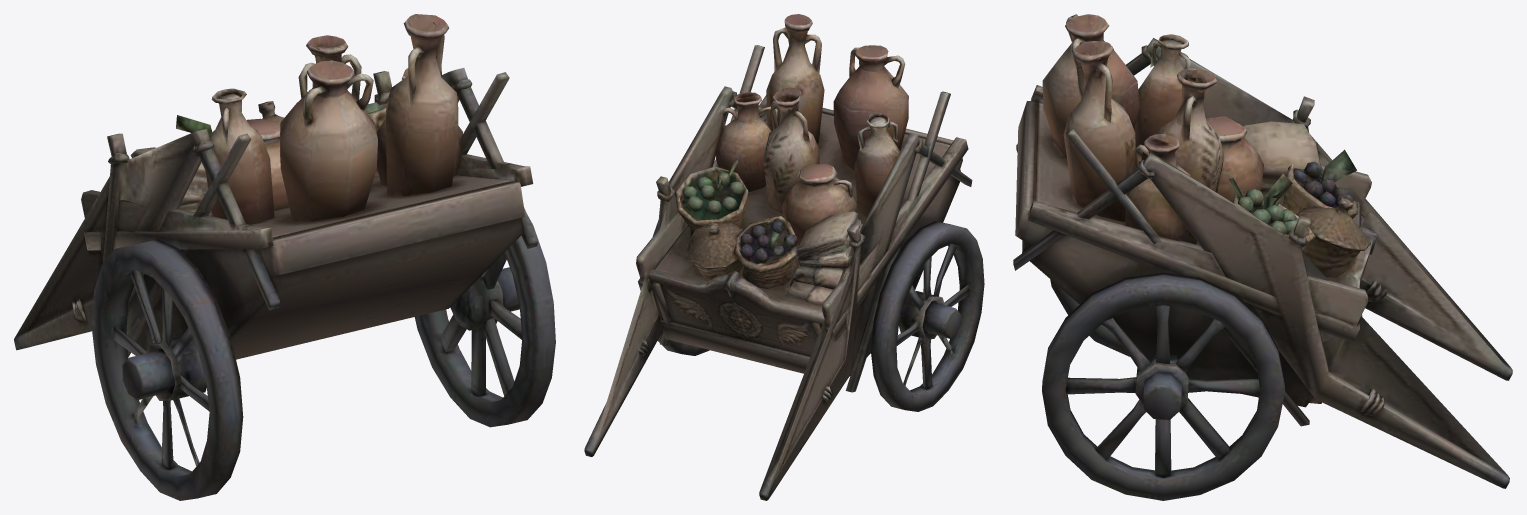
File: olive_cart.glb
The picture shows the model from 3 angles, left to right: view 1: azimuth 30°, elevation 25°; view 2: azimuth 150°, elevation 25°; view 3: azimuth 270°, elevation 25°; orthographic projection. The views are drawn at different scales.
Parts seen in each view (by area): view 1: olive_cart; view 2: olive_cart; view 3: olive_cart.
Boxes of the visible parts, x1=… form: olive_cart: x1=14, y1=14, x2=555, y2=500; olive_cart: x1=584, y1=14, x2=984, y2=500; olive_cart: x1=1013, y1=14, x2=1512, y2=500.
Bounding box in the file's own units: 0.9836 × 1.1 × 1.21.
Materials: 1 (1 with a texture image).
